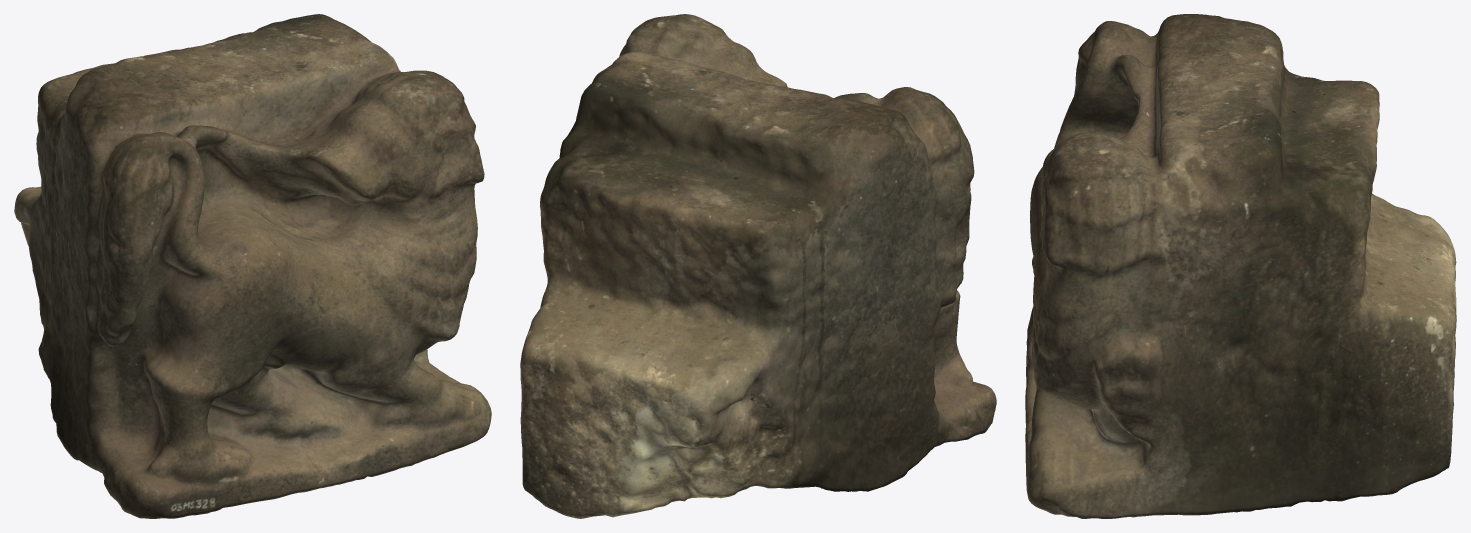
File: 33_MysonSanctuaryD2_Sutuvoi_final.glb
3 views of the same model, side by side, from view 1: azimuth 30°, elevation 25°; view 2: azimuth 150°, elevation 25°; view 3: azimuth 270°, elevation 25° (orthographic).
Bounding box in the file's own units: 0.42 × 0.4 × 0.4331.
Materials: 1 (1 with a texture image).
